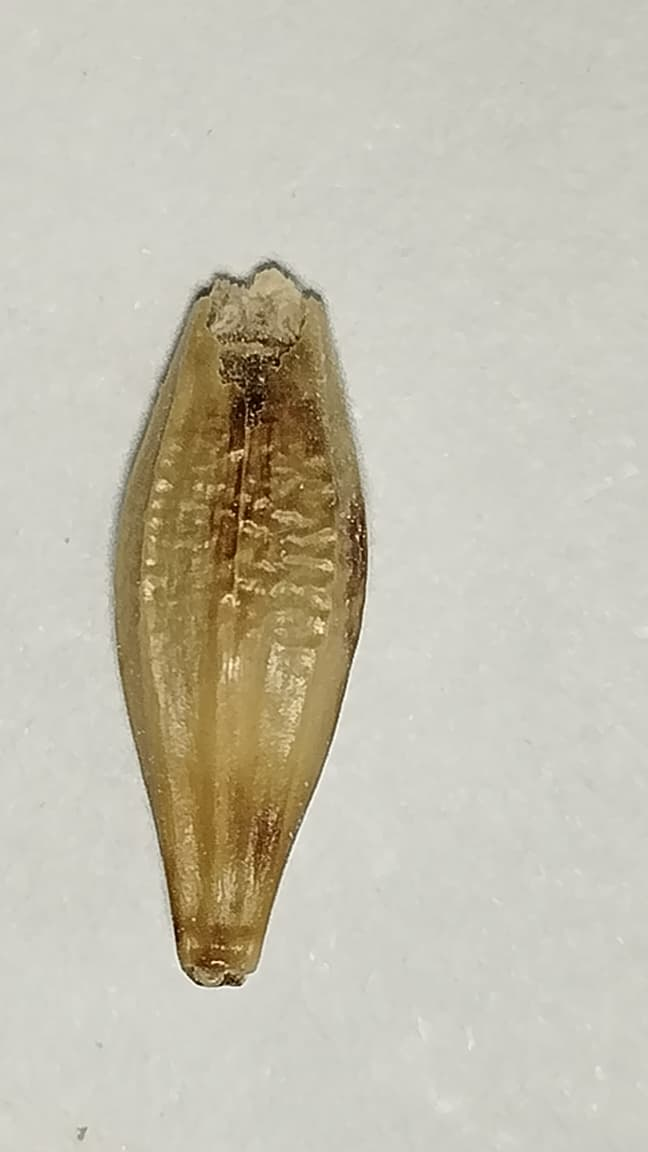healthy-70-60: (115, 268, 365, 982)
staindamage: (203, 329, 307, 597)
